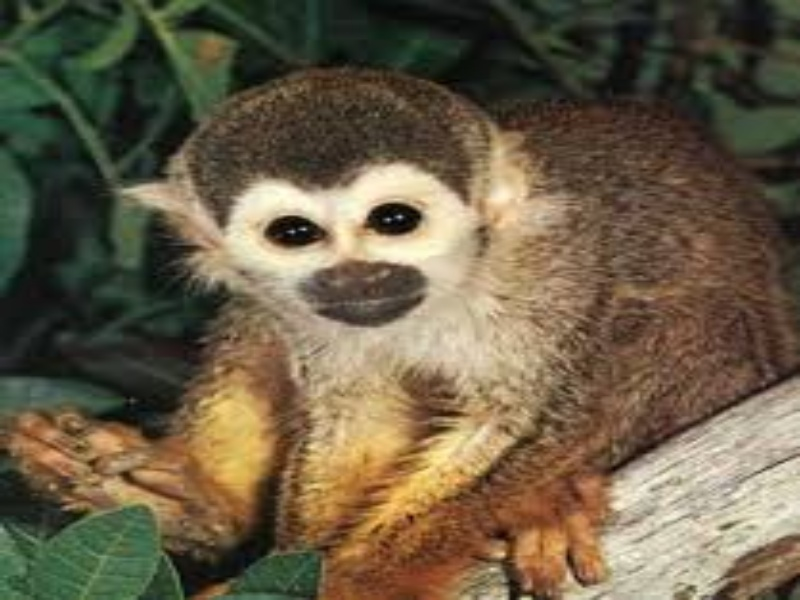monkey: (74, 99, 750, 530)
